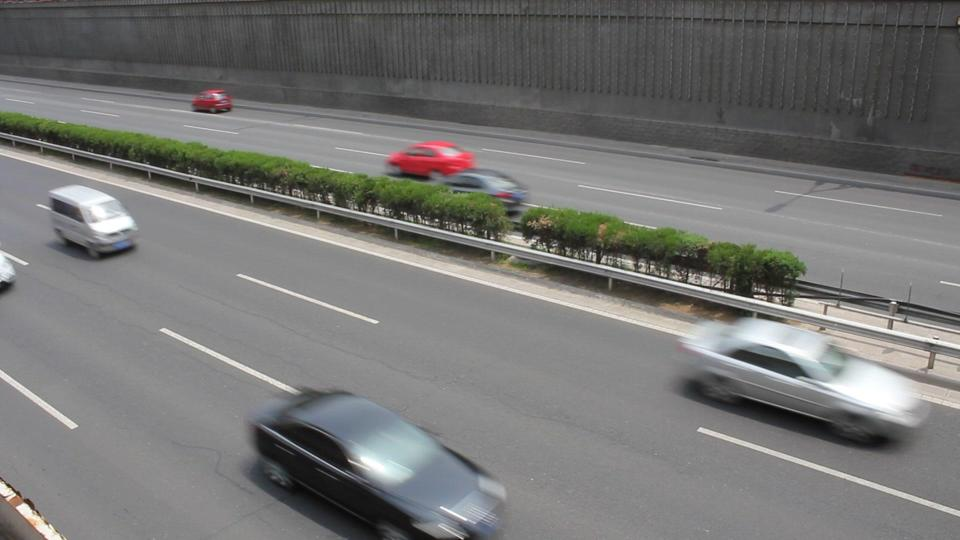Car: (249, 384, 512, 526), (679, 317, 918, 442), (51, 182, 137, 258), (425, 170, 528, 217), (385, 142, 475, 183), (189, 88, 232, 114)
